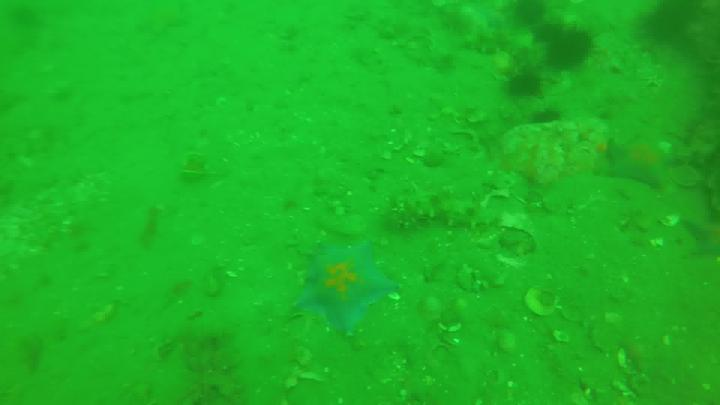echinus: (637, 5, 693, 45), (554, 29, 599, 66), (533, 15, 568, 43), (507, 72, 544, 98), (513, 4, 553, 25)
holothurian: (393, 181, 496, 234)
scallop: (524, 288, 561, 317), (617, 350, 644, 375), (554, 332, 573, 345)
starfish: (295, 237, 403, 337), (610, 138, 673, 187), (686, 219, 719, 258)
